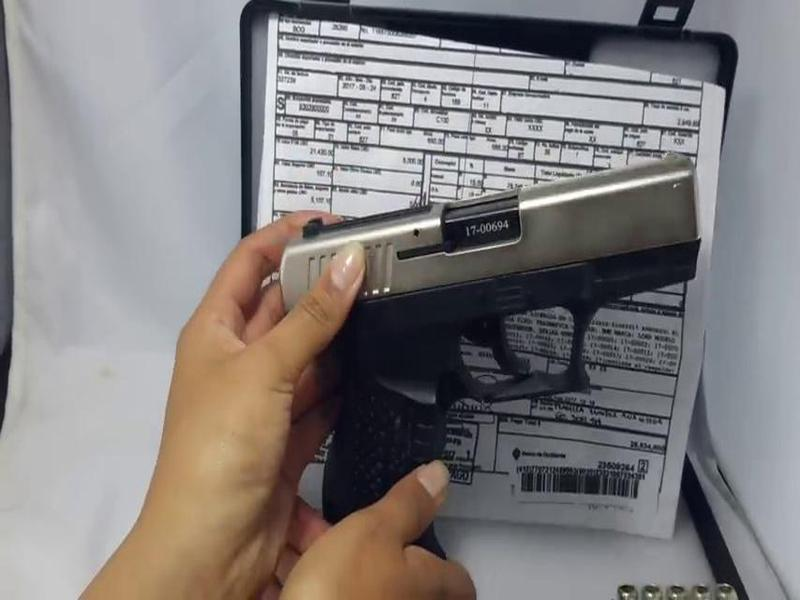Pistola: (265, 163, 714, 554)
